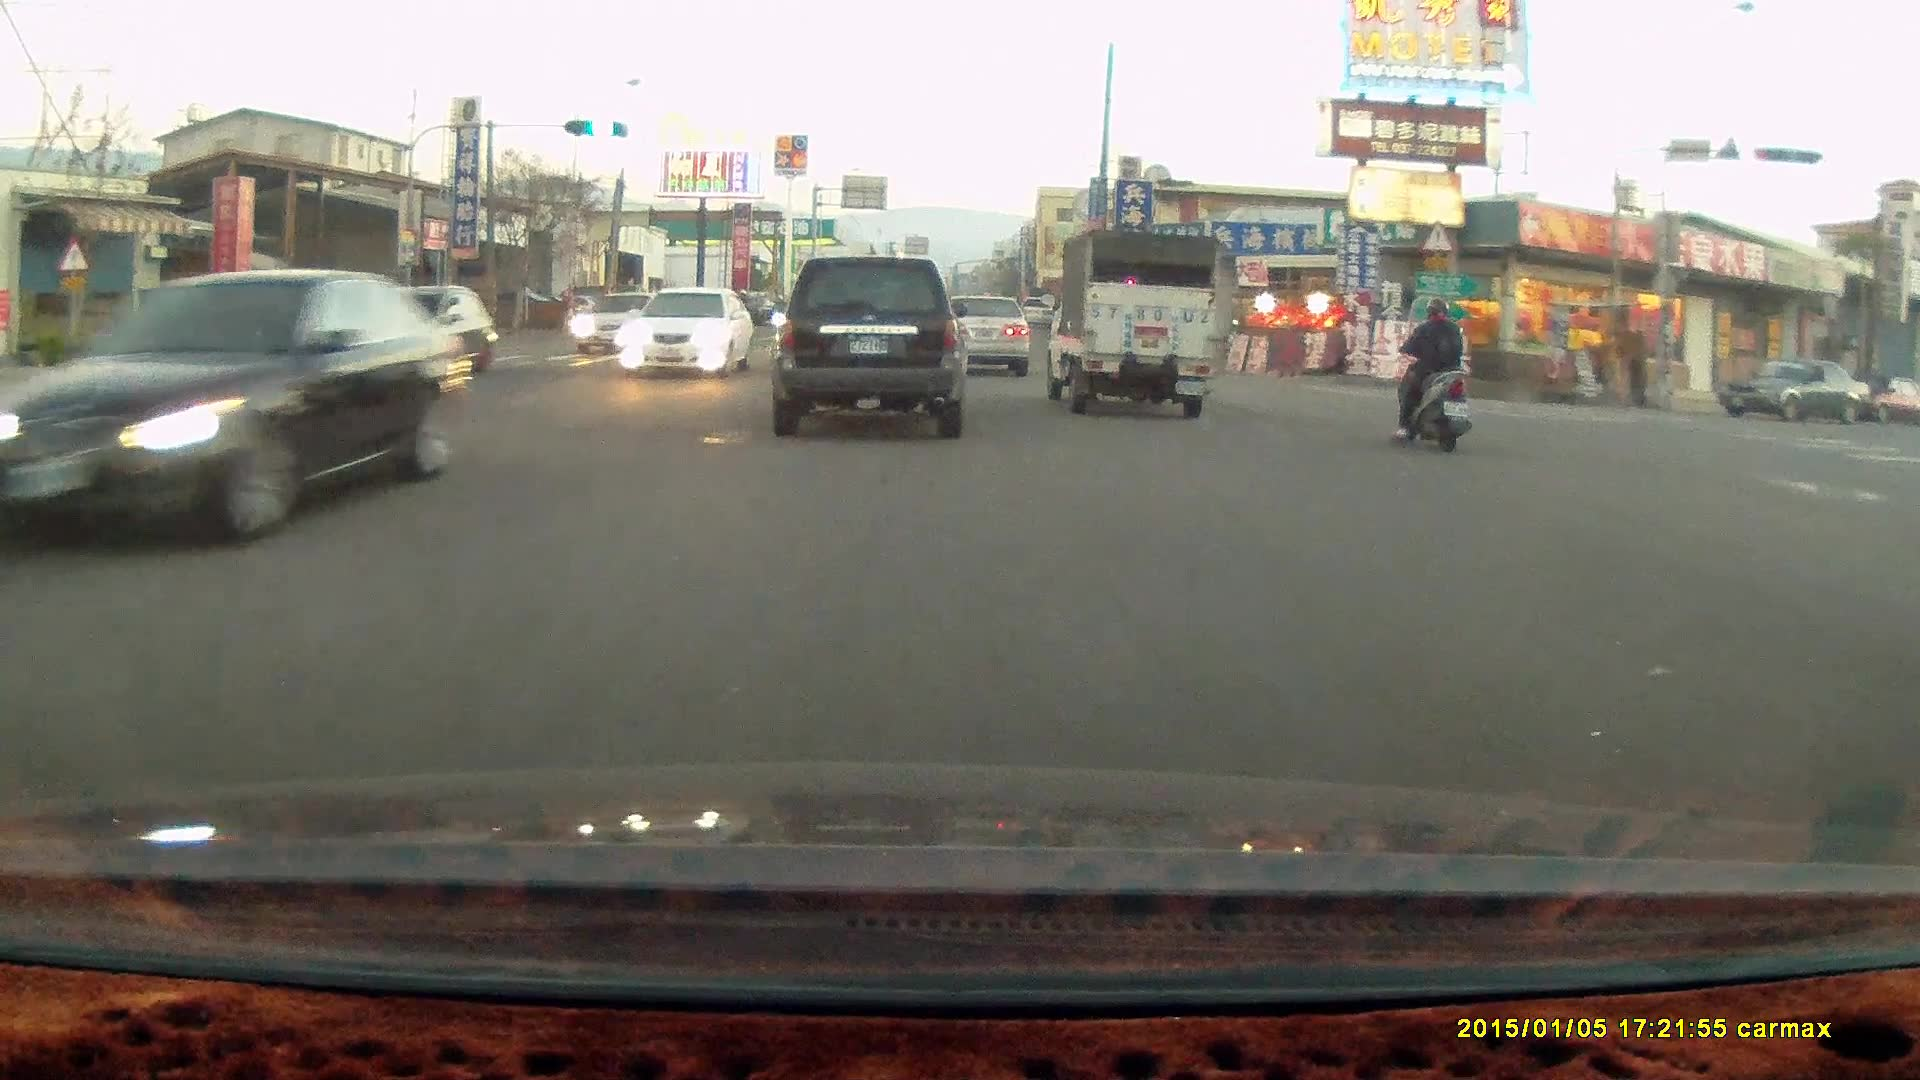rider: (1388, 291, 1474, 451)
vehicle: (3, 270, 471, 568), (766, 254, 969, 439), (1039, 227, 1219, 417), (327, 286, 498, 378), (623, 288, 756, 379), (1717, 357, 1873, 426), (928, 289, 1030, 376), (941, 293, 1033, 380), (572, 290, 677, 362), (273, 284, 398, 336), (1850, 376, 1920, 427)
